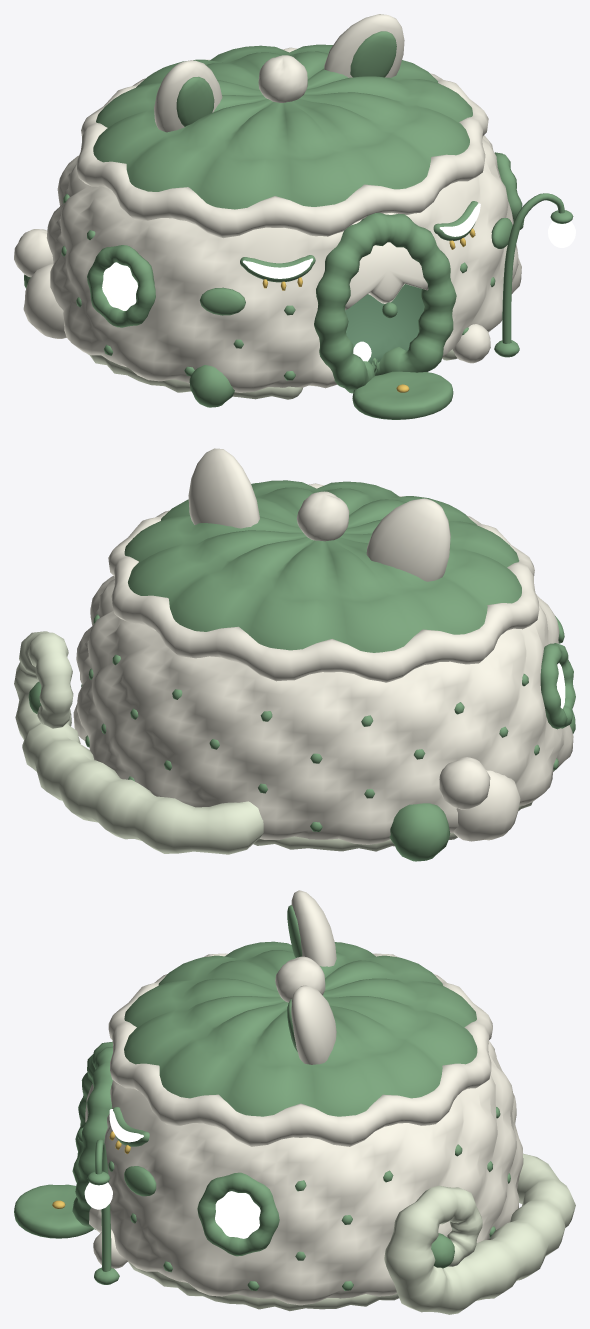
File: house_03_0308.fbx
The picture shows the model from 3 angles, top to bottom: view 1: azimuth 30°, elevation 25°; view 2: azimuth 150°, elevation 25°; view 3: azimuth 270°, elevation 25°; orthographic projection. The views are drawn at different scales.
Parts seen in each view (by area): view 1: House_Body, Roof_Blanket, Roof_FurTrim, Entrance_Rim, Roof_Ears, Deco_FluffBalls_Cream, Window_PortholeRims, Entrance_StepCushion, Entrance_Hollow, Entrance_Door_Curtain, Roof_EarsInner, Deco_DreamLamp_Stalk (+9 smaller); view 2: House_Body, Roof_Blanket, Deco_CurlyTail, Roof_FurTrim, Roof_Ears, Deco_FluffBalls_Cream, Deco_FluffBalls_Pink, Window_PortholeRims, Roof_Pompom, Deco_QuiltButtons, Deco_FurHem; view 3: House_Body, Roof_Blanket, Deco_CurlyTail, Roof_FurTrim, Roof_Ears, Entrance_Rim, Window_PortholeRims, Entrance_StepCushion, Deco_FurHem, Window_PortholeGlow, Deco_DreamLamp_Stalk, Roof_Pompom (+5 smaller).
Part boxes in pixels (box(x1,y1,x2,y2)): House_Body: box(46, 135, 521, 392); Roof_Blanket: box(93, 44, 472, 209); Roof_FurTrim: box(77, 47, 488, 238); Entrance_Rim: box(314, 212, 456, 393); Roof_Ears: box(154, 14, 404, 132); Deco_FluffBalls_Cream: box(14, 229, 490, 363); Window_PortholeRims: box(87, 152, 524, 327); Entrance_StepCushion: box(352, 371, 453, 419); Entrance_Hollow: box(345, 284, 424, 363); Entrance_Door_Curtain: box(345, 242, 428, 310); Roof_EarsInner: box(176, 31, 396, 126); Deco_DreamLamp_Stalk: box(494, 193, 573, 357); House_Body: box(73, 576, 573, 844); Roof_Blanket: box(124, 480, 521, 652); Deco_CurlyTail: box(14, 631, 263, 854); Roof_FurTrim: box(108, 483, 539, 682); Roof_Ears: box(188, 448, 450, 581); Deco_FluffBalls_Cream: box(439, 757, 520, 841); Deco_FluffBalls_Pink: box(389, 710, 575, 861); Window_PortholeRims: box(540, 643, 575, 729); Roof_Pompom: box(296, 491, 349, 541); Deco_QuiltButtons: box(81, 614, 558, 831); Deco_FurHem: box(253, 802, 532, 851); House_Body: box(89, 1041, 523, 1305); Roof_Blanket: box(124, 941, 477, 1116); Deco_CurlyTail: box(384, 1153, 575, 1314); Roof_FurTrim: box(108, 953, 492, 1146); Roof_Ears: box(291, 890, 336, 1064); Entrance_Rim: box(72, 1041, 112, 1229); Window_PortholeRims: box(197, 1172, 279, 1256); Entrance_StepCushion: box(14, 1184, 93, 1238); Deco_FurHem: box(128, 1261, 398, 1311); Window_PortholeGlow: box(215, 1191, 260, 1238); Deco_DreamLamp_Stalk: box(87, 1139, 119, 1284); Roof_Pompom: box(275, 956, 325, 1002).
Bounding box in the file's own units: 5.55 × 3.23 × 5.86.
